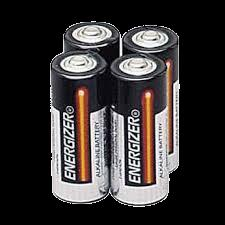Battery: (49, 22, 179, 208)
